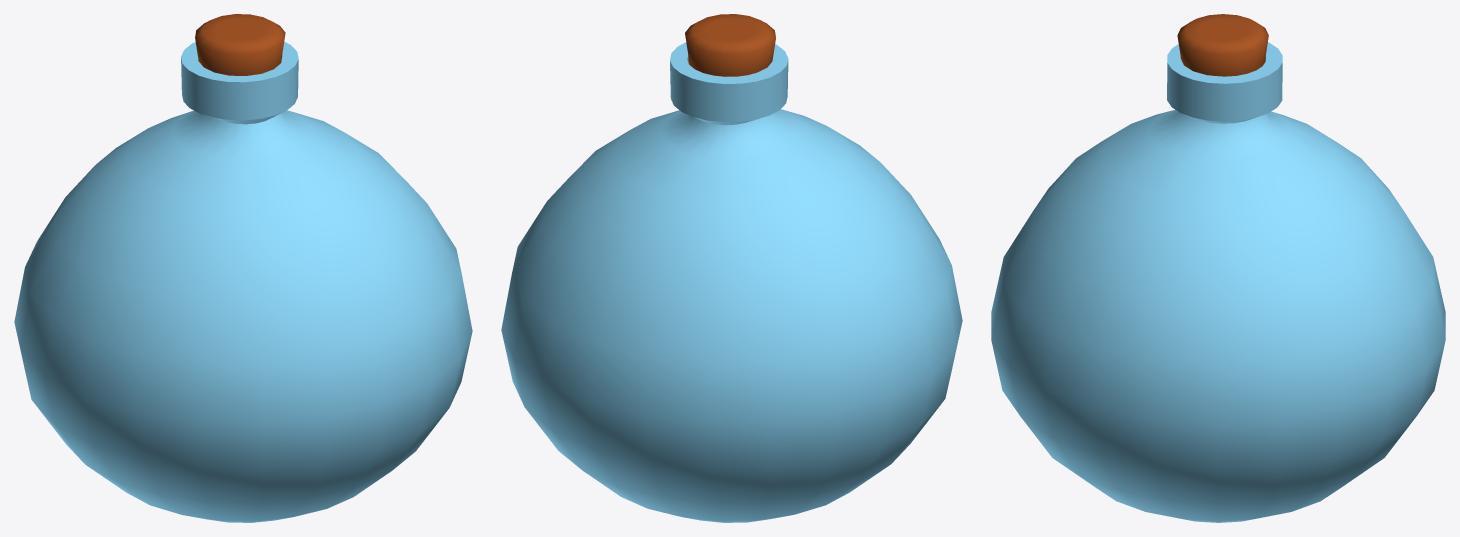
The model's file is FlaskRound.fbx.
The picture shows the model from 3 angles, left to right: view 1: azimuth 30°, elevation 25°; view 2: azimuth 150°, elevation 25°; view 3: azimuth 270°, elevation 25°; orthographic projection.
Visible parts, largest first — view 1: FlaskRound; view 2: FlaskRound; view 3: FlaskRound.
Part boxes in pixels (x1=…): FlaskRound: x1=14, y1=14, x2=472, y2=522; FlaskRound: x1=501, y1=14, x2=962, y2=522; FlaskRound: x1=991, y1=14, x2=1445, y2=522.
Size of the model in its own units: 22.88 by 25.7 by 22.62.
